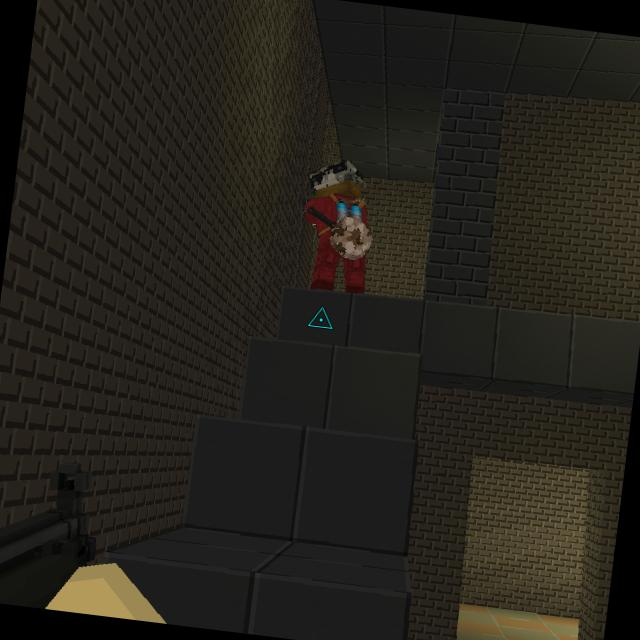enemy: (294, 156, 380, 295)
